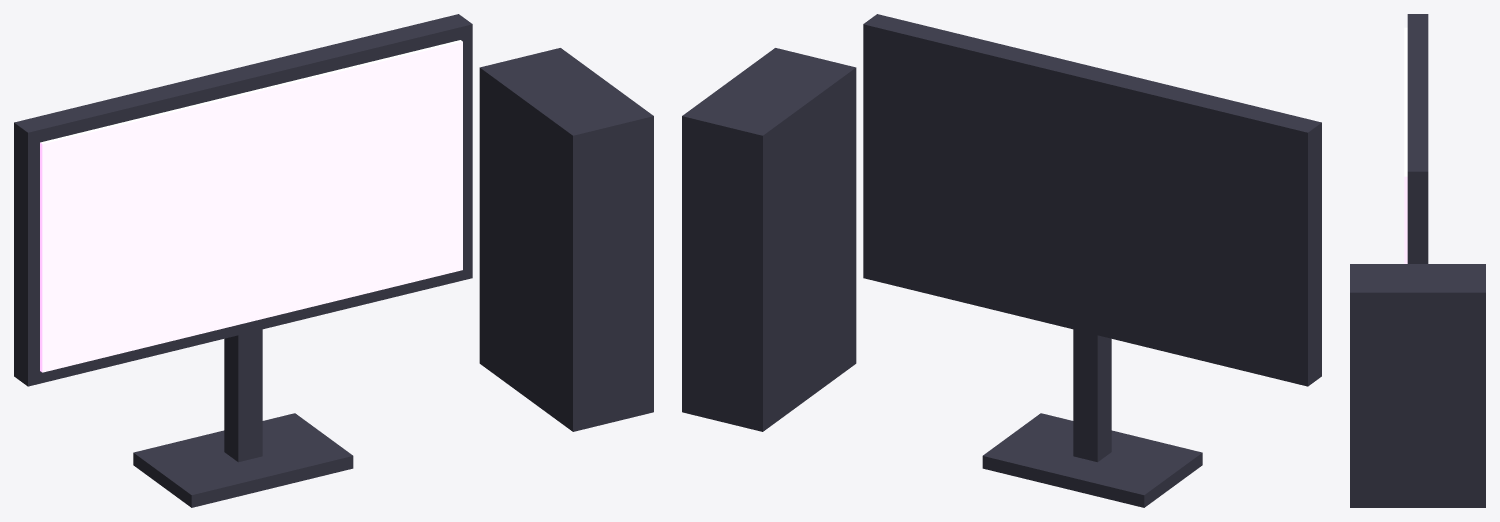
Rendered from computer6.glb.
3 renders of one model, left to right at view 1: azimuth 30°, elevation 25°; view 2: azimuth 150°, elevation 25°; view 3: azimuth 270°, elevation 25°, orthographic. The views are drawn at different scales.
Bounding box in the file's own units: 1.45 × 0.93 × 0.4.
